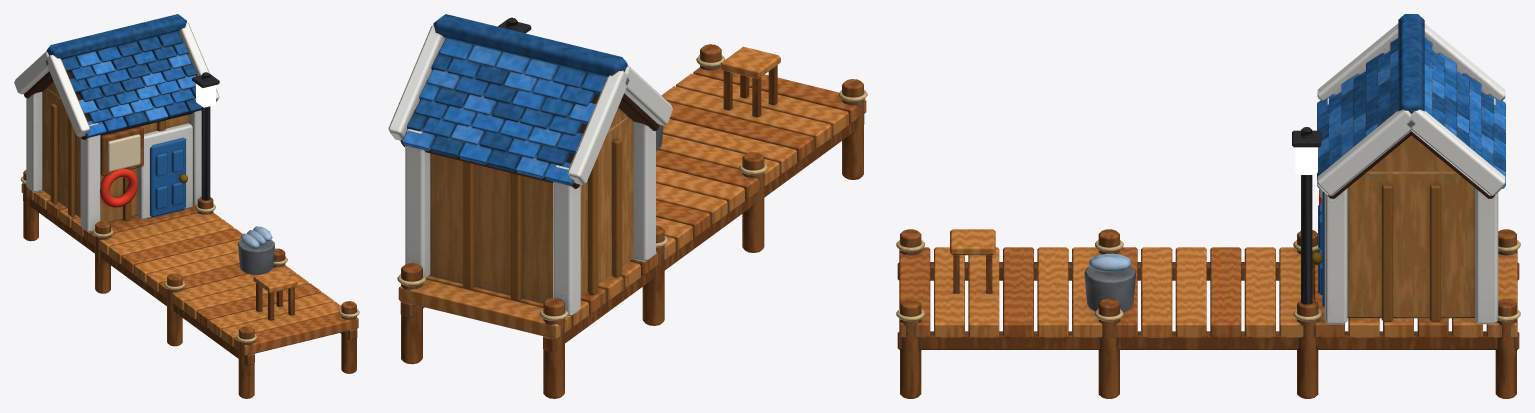
Rendered from fishing_pier.glb.
3 renders of one model, left to right at view 1: azimuth 30°, elevation 25°; view 2: azimuth 150°, elevation 25°; view 3: azimuth 270°, elevation 25°, orthographic. The views are drawn at different scales.
Visible parts, largest first — view 1: fishing_pier; view 2: fishing_pier; view 3: fishing_pier.
Boxes of the visible parts, x1=… form: fishing_pier: x1=14, y1=14, x2=359, y2=398; fishing_pier: x1=388, y1=14, x2=867, y2=398; fishing_pier: x1=896, y1=14, x2=1520, y2=398.
Bounding box in the file's own units: 0.68 × 1.02 × 1.91.
1 material, 1 textured.
